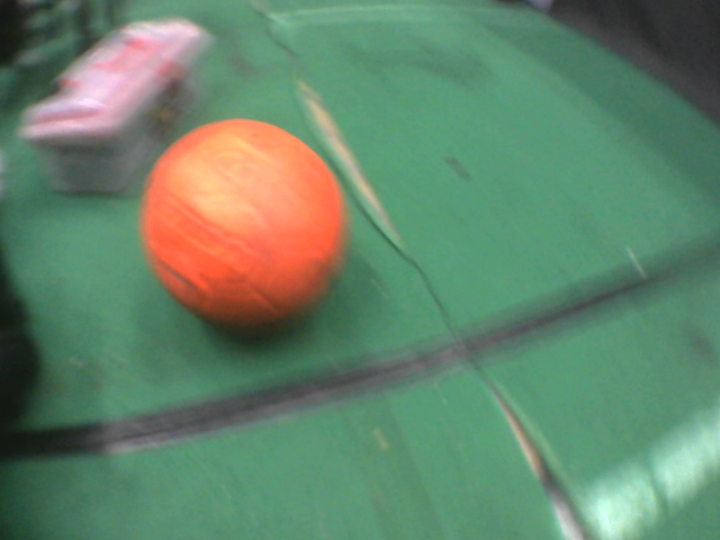bola: (136, 113, 362, 351)
